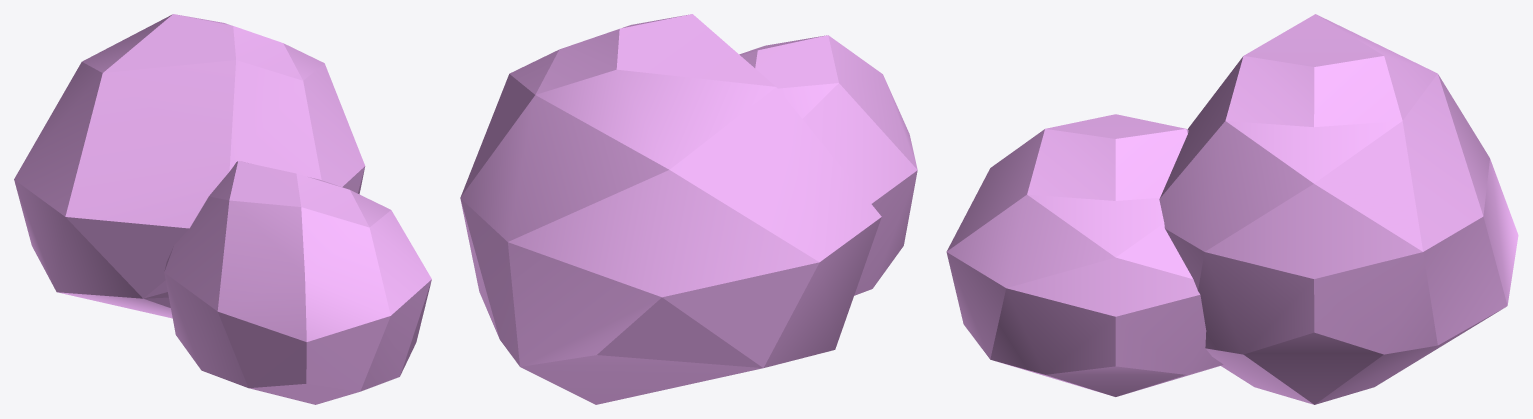
File: Nube2.FBX
The picture shows the model from 3 angles, left to right: view 1: azimuth 30°, elevation 25°; view 2: azimuth 150°, elevation 25°; view 3: azimuth 270°, elevation 25°; orthographic projection. The views are drawn at different scales.
Parts seen in each view (by area): view 1: Object004; view 2: Object004; view 3: Object004.
Boxes of the visible parts, x1,y1,x2,y2 form: Object004: (14, 14, 431, 404); Object004: (460, 14, 917, 404); Object004: (946, 14, 1518, 404).
Bounding box in the file's own units: 236 × 215 × 343.
